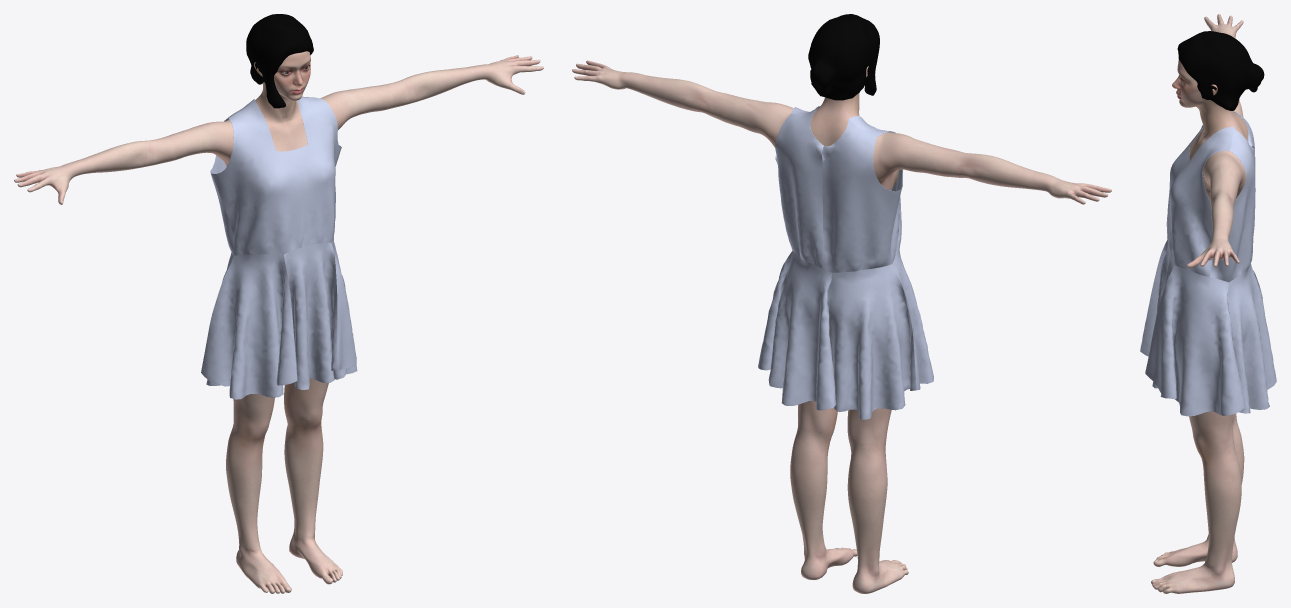
The model's file is Dynamic.obj.
3 renders of one model, left to right at view 1: azimuth 30°, elevation 25°; view 2: azimuth 150°, elevation 25°; view 3: azimuth 270°, elevation 25°, orthographic. The views are drawn at different scales.
Bounding box in the file's own units: 1746 × 1761 × 403.
